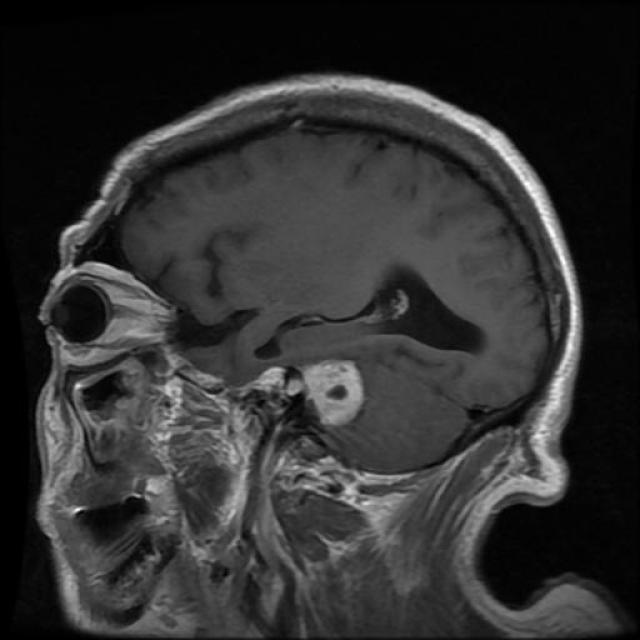meningioma: (304, 360, 364, 428)
